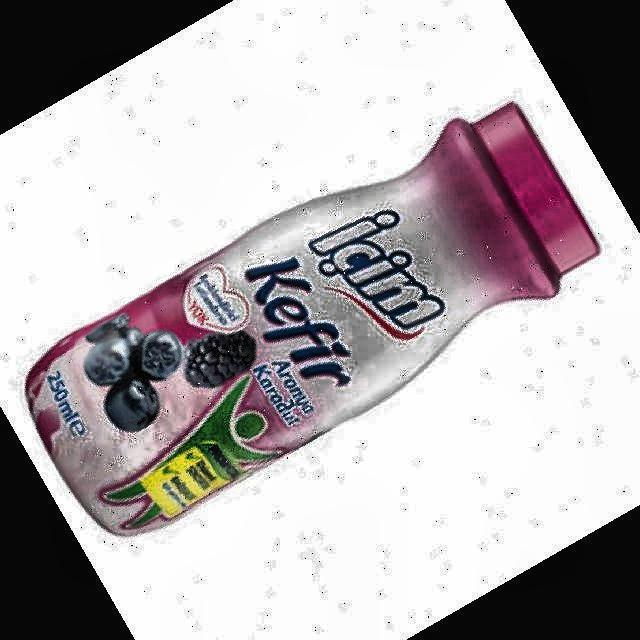plastic: (26, 105, 599, 534)
